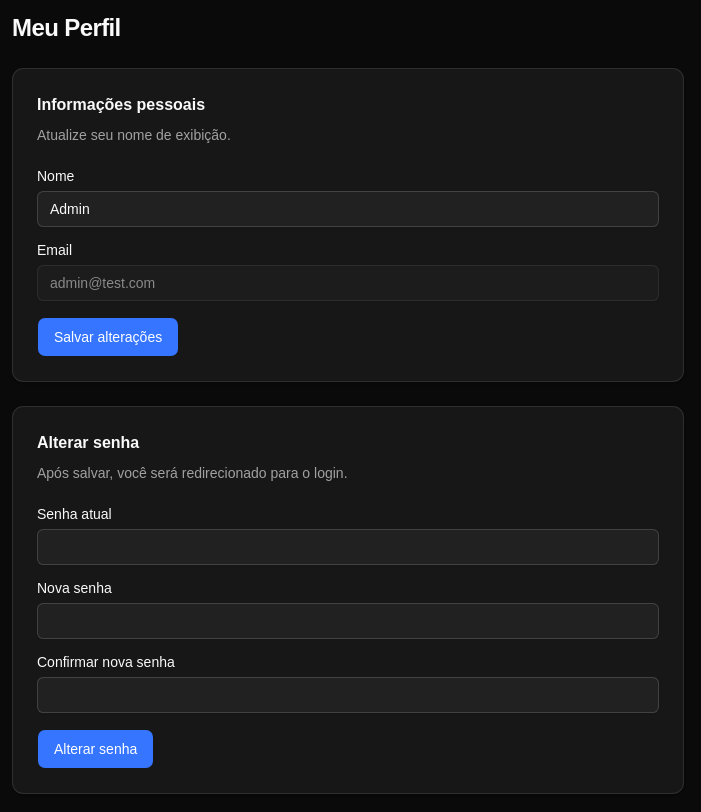
it: ProfilePage — alterar senha › senha atual incorreta retorna 401 e exibe erro inline
Expected: the field showing "Admin" is shown, [37,191,659,227]
In the password field labelled "Senha atual": (348, 547) [37,529,659,565], type "errada"
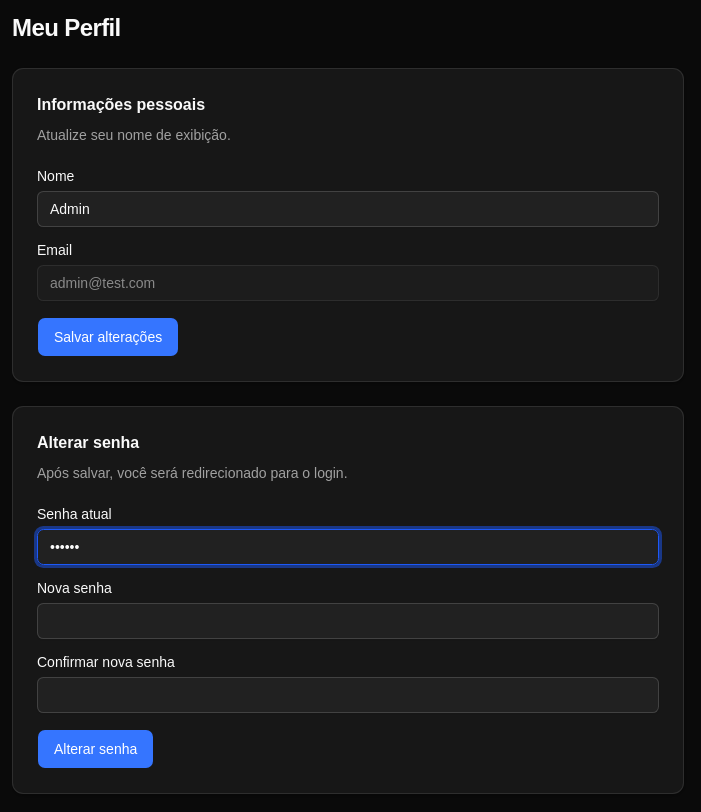
In the password field labelled "Nova senha": (348, 621) [37,603,659,639], type "nova123"
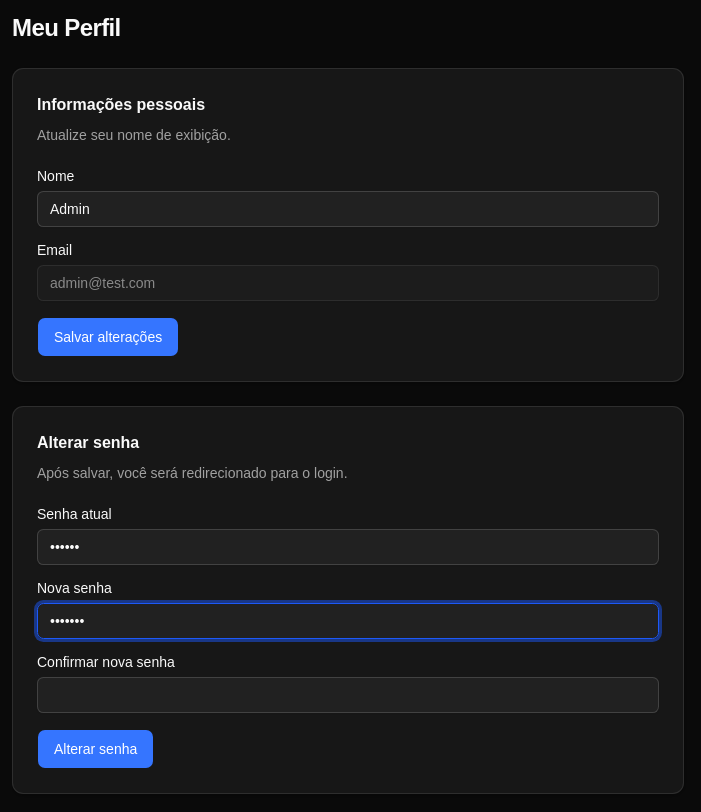
In the password field labelled "Confirmar nova senha": (348, 695) [37,677,659,713], type "nova123"
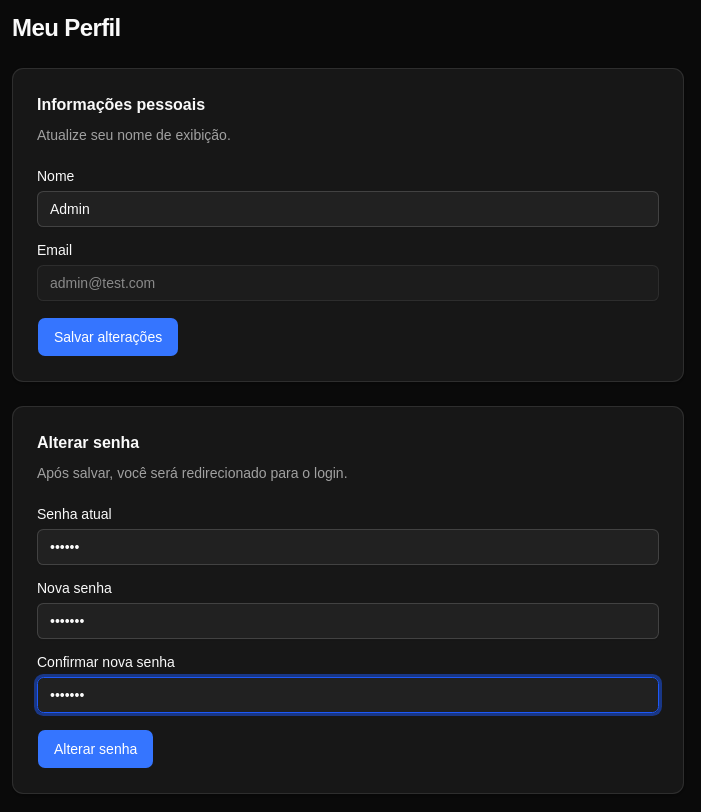
Click the button "Alterar senha": (96, 749) [37,729,154,769]
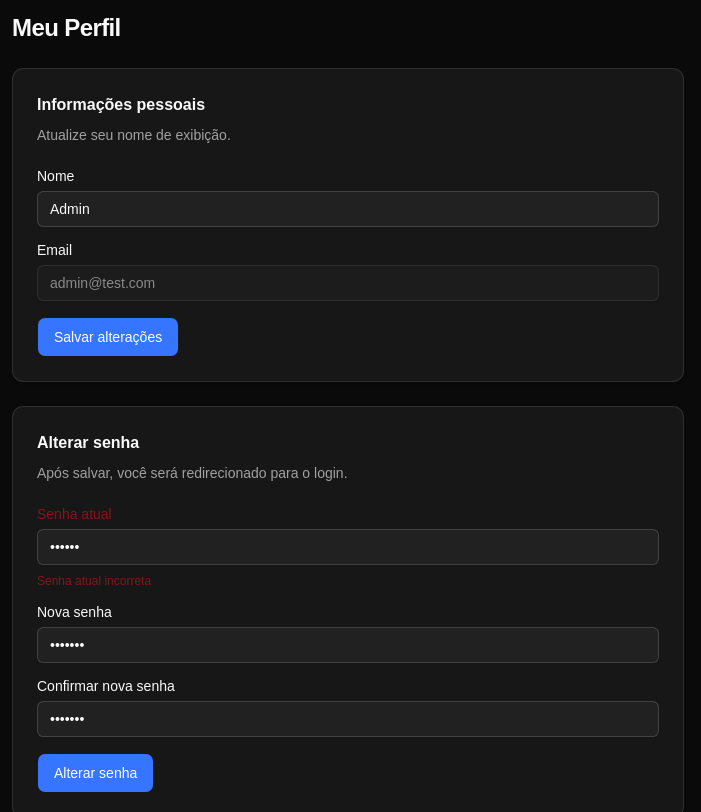
Expected: the text "Senha atual incorreta" is shown, [37,574,151,588]
